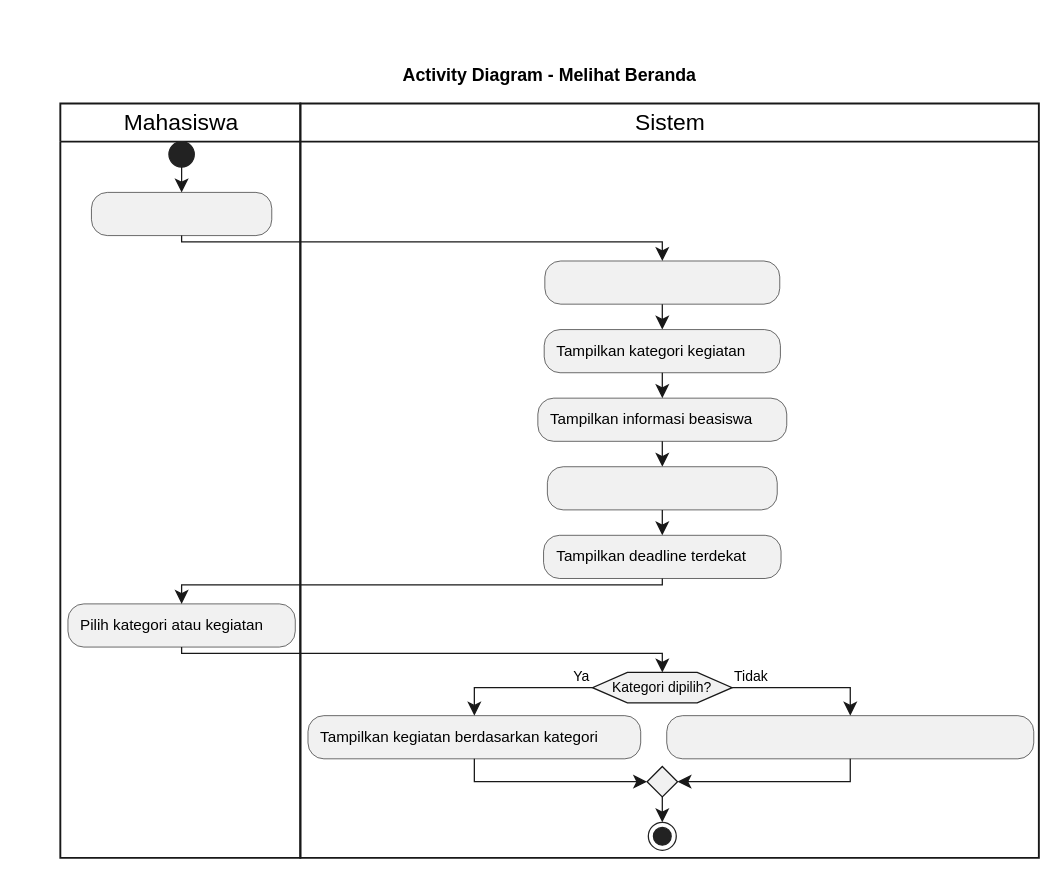
This 1062x880 diagram has some shape labels left out. Here are the shapes that lost their labels. From the top down, the centre of each, then its label:
the point at 181,213: Buka website PINTAR
the point at 662,282: Tampilkan halaman Beranda
the point at 661,488: Tampilkan kegiatan terbaru
the point at 850,737: Tampilkan halaman atau kegiatan yang dipilih
